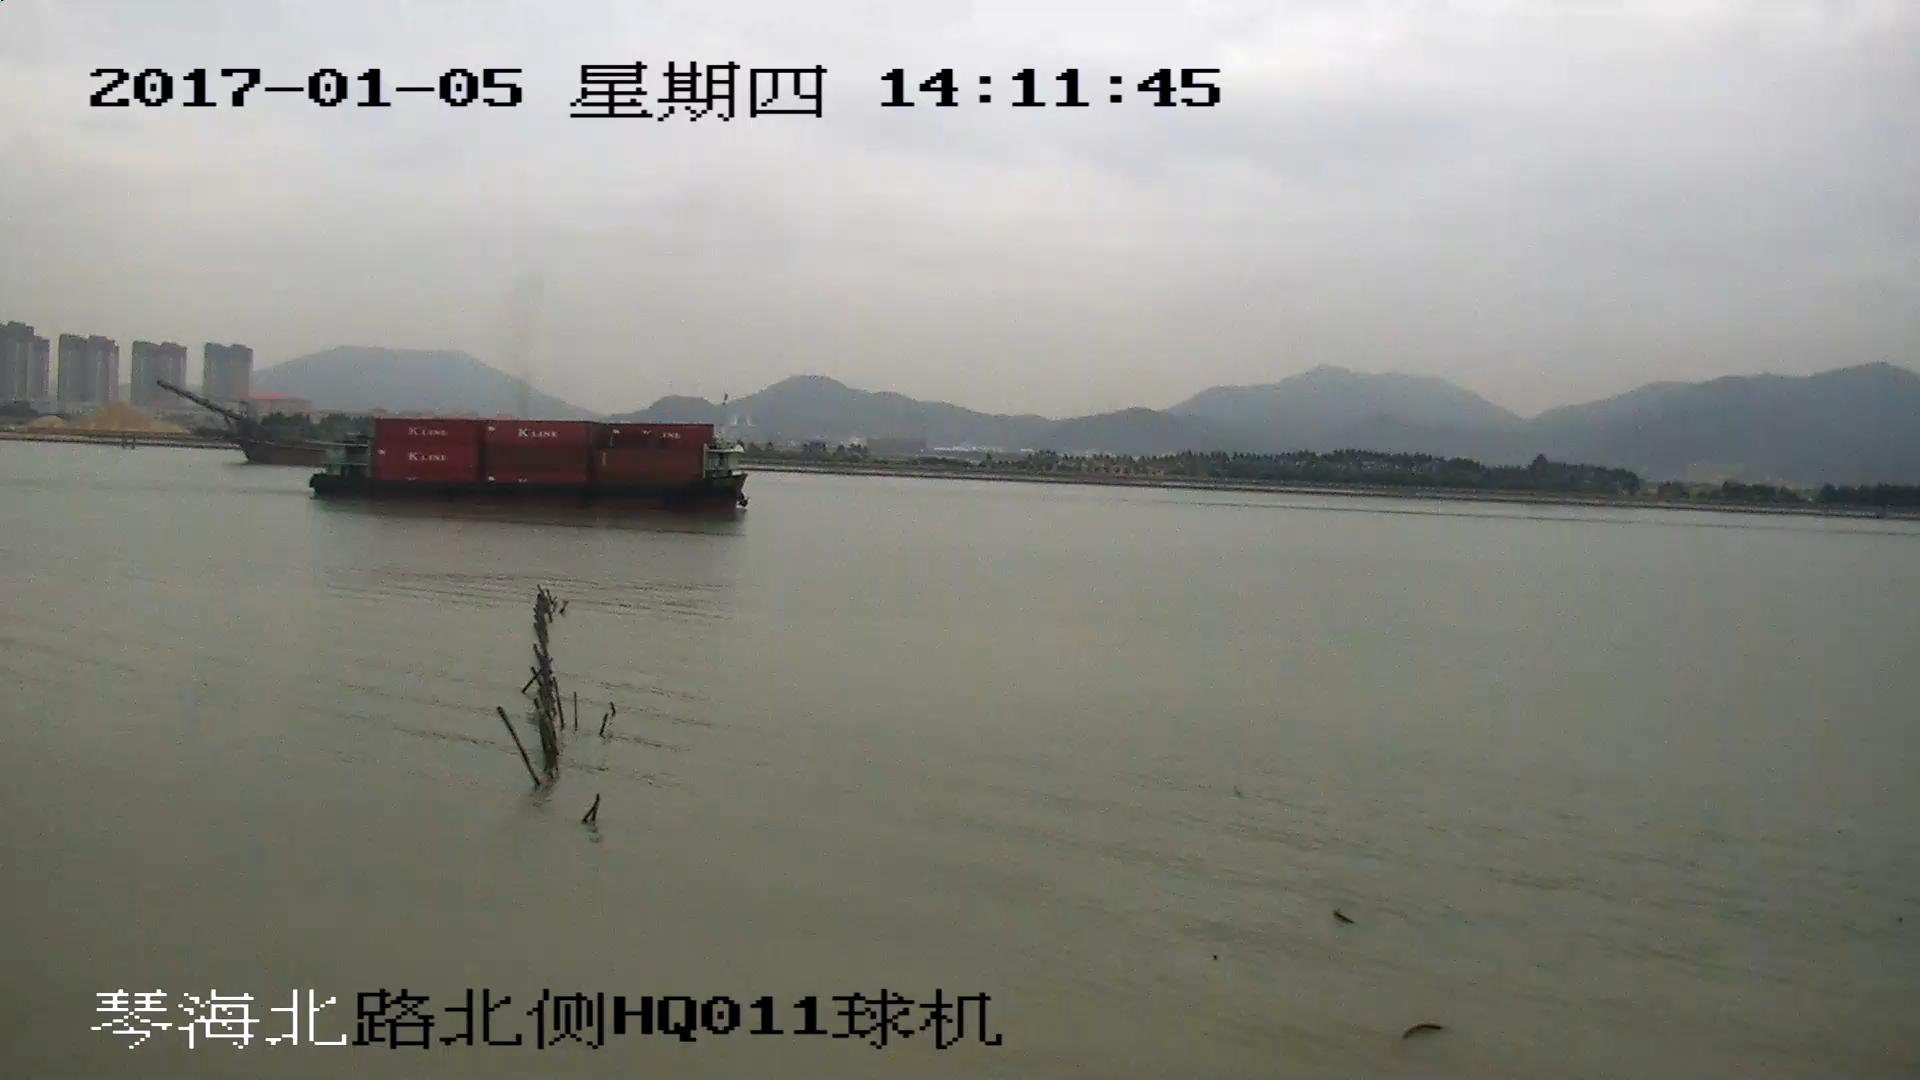container ship: (312, 415, 746, 518)
